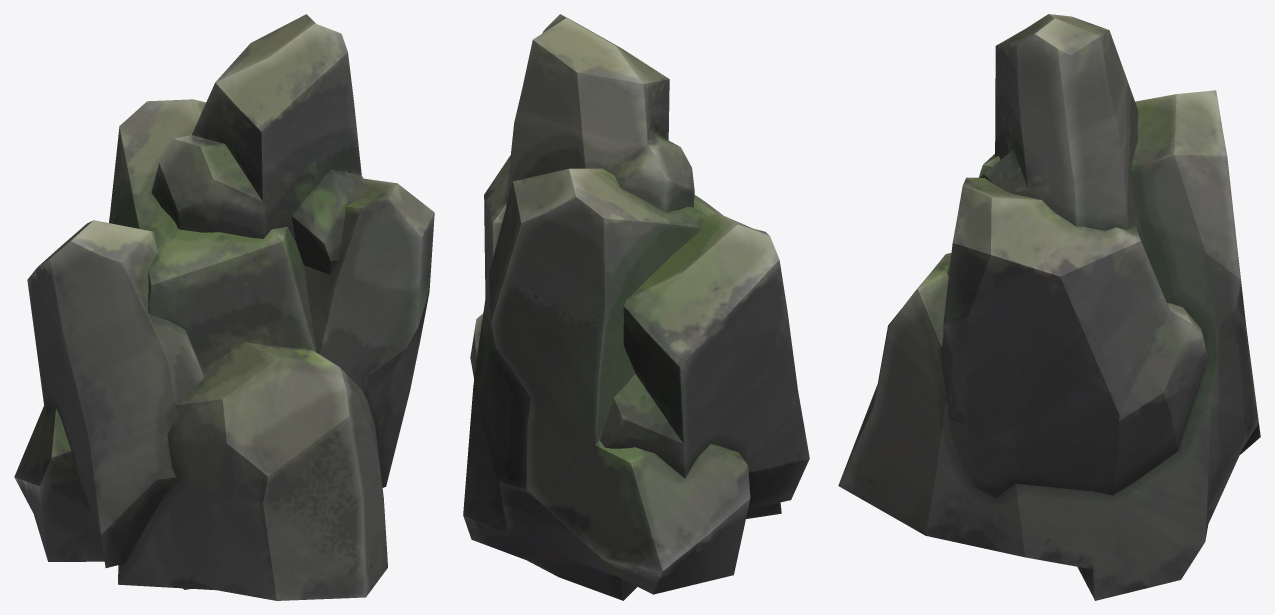
Rendered from Rock_3.gltf.
3 renders of one model, left to right at view 1: azimuth 30°, elevation 25°; view 2: azimuth 150°, elevation 25°; view 3: azimuth 270°, elevation 25°, orthographic. The views are drawn at different scales.
Parts seen in each view (by area): view 1: Rock_3; view 2: Rock_3; view 3: Rock_3.
Boxes of the visible parts, x1,y1,x2,y2 form: Rock_3: [14, 14, 434, 600]; Rock_3: [463, 14, 809, 600]; Rock_3: [838, 14, 1260, 600].
Size of the model in its own units: 0.8436 by 1.31 by 0.8972.
Materials: 1 (1 with a texture image).
